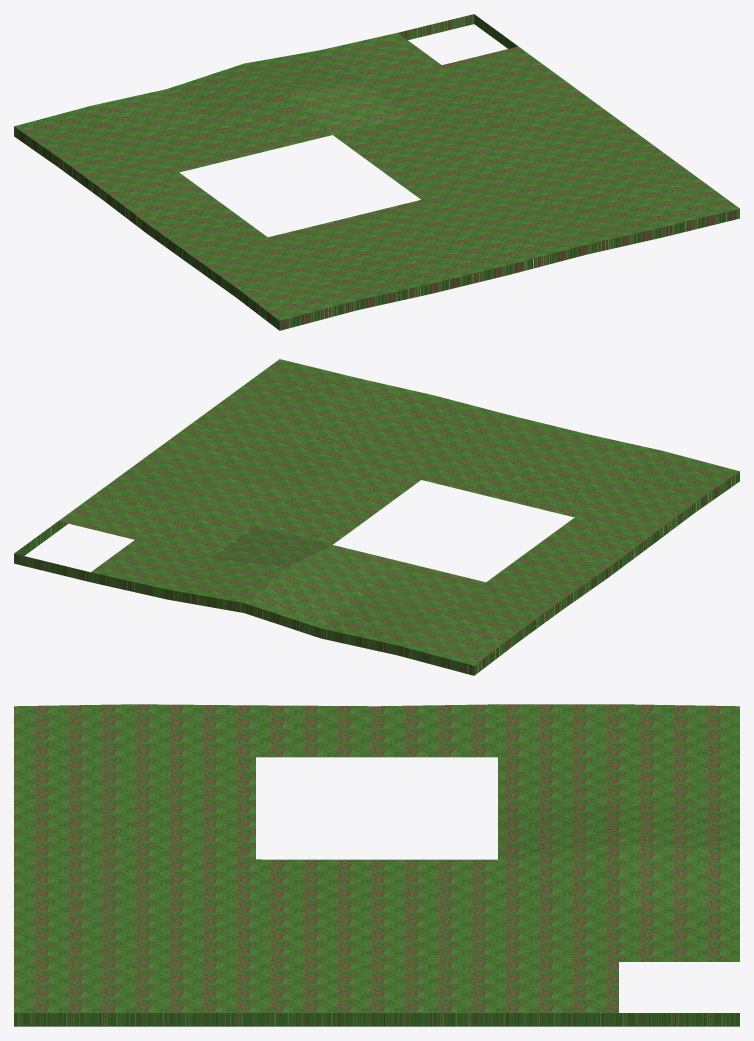
File: rv_terrain_12_lod3.gltf
3 renders of one model, top to bottom at view 1: azimuth 30°, elevation 25°; view 2: azimuth 150°, elevation 25°; view 3: azimuth 270°, elevation 25°, orthographic. The views are drawn at different scales.
Parts seen in each view (by area): view 1: RV_Terrain_12_lod3; view 2: RV_Terrain_12_lod3; view 3: RV_Terrain_12_lod3.
Boxes of the visible parts, box(x1,y1,x2,y2) form: RV_Terrain_12_lod3: box(14, 14, 739, 330); RV_Terrain_12_lod3: box(14, 359, 739, 675); RV_Terrain_12_lod3: box(14, 704, 739, 1026).
Size of the model in its own units: 72 by 3.07 by 72.
2 materials, 1 textured.
